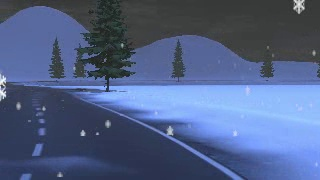Lane: (0, 83, 239, 179)
